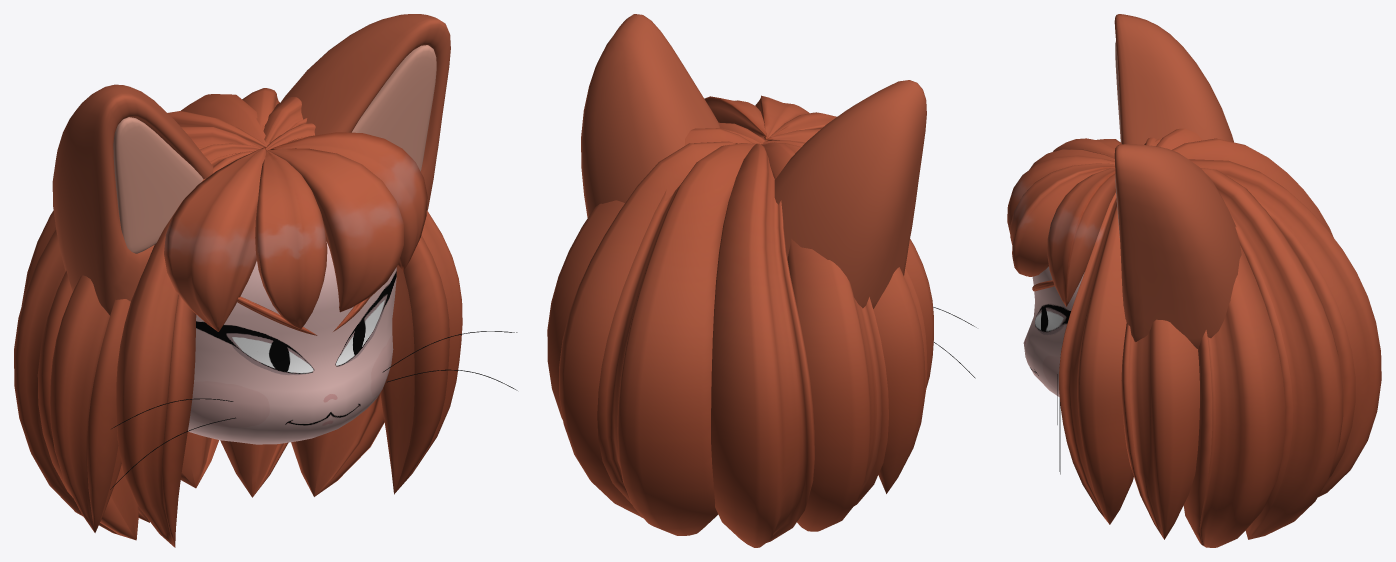
Rendered from Cat Girl ONE OBJECT2.fbx.
3 views of the same model, side by side, from view 1: azimuth 30°, elevation 25°; view 2: azimuth 150°, elevation 25°; view 3: azimuth 270°, elevation 25° (orthographic). The views are drawn at different scales.
Visible parts, largest first — view 1: Cube.001; view 2: Cube.001; view 3: Cube.001.
Boxes of the visible parts, x1,y1,x2,y2 form: Cube.001: (14, 14, 517, 547); Cube.001: (547, 14, 976, 547); Cube.001: (1007, 14, 1381, 547).
Size of the model in its own units: 158 by 187 by 145.
5 materials, 2 textured.
